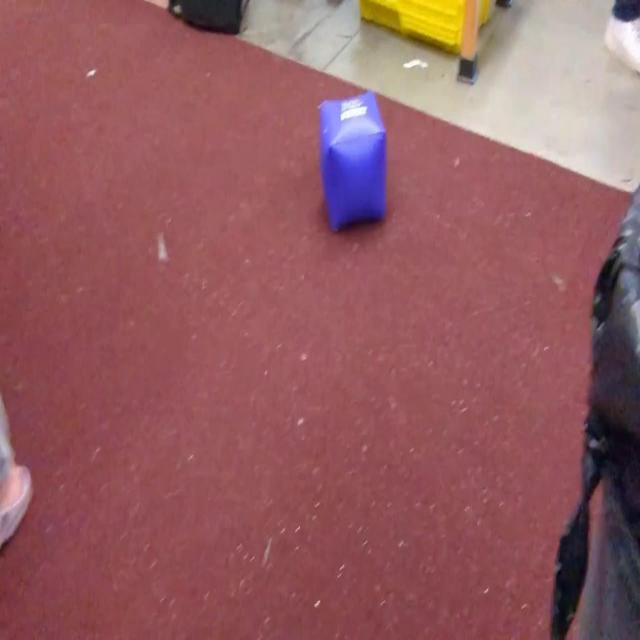frc_cube: (319, 87, 389, 235)
